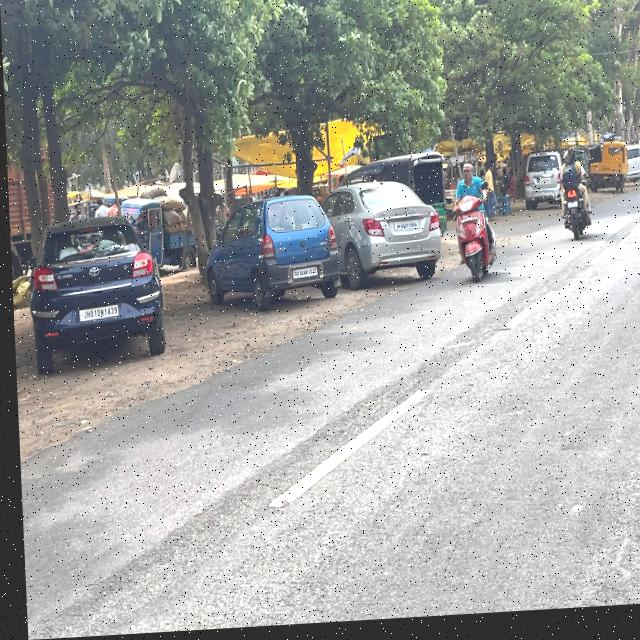bike: (448, 199, 496, 291), (554, 186, 593, 251)
car: (20, 213, 165, 373), (198, 195, 341, 319), (326, 174, 442, 284), (518, 149, 565, 213), (619, 145, 640, 188)
